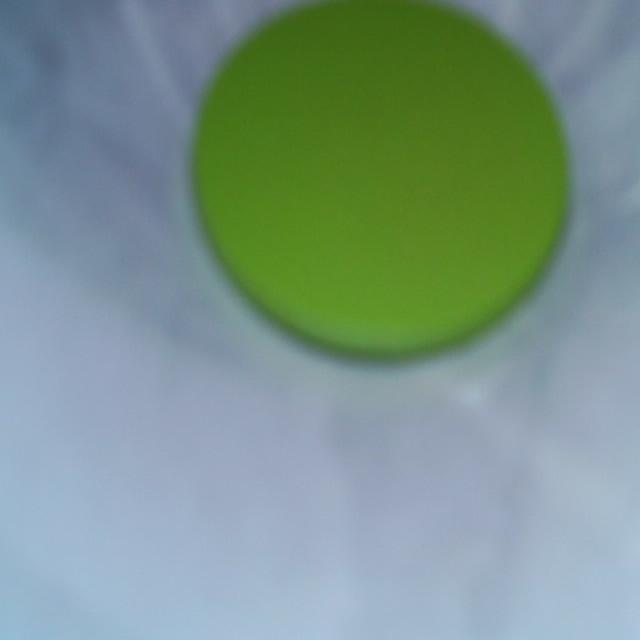circle: (194, 2, 562, 352)
